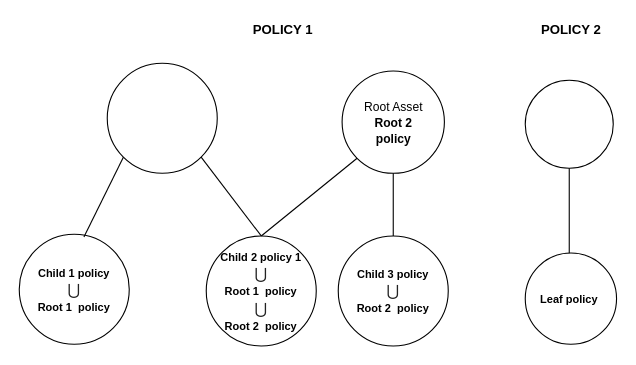
Image size: 636x365. Some labels were removed from this diagram. The box of each missing label's shape, as (x1, y1, x2, y2) in pixels:
Child 2 policy 2: (524, 79, 613, 168)
Root Asset Root 1 policy: (106, 62, 217, 173)
